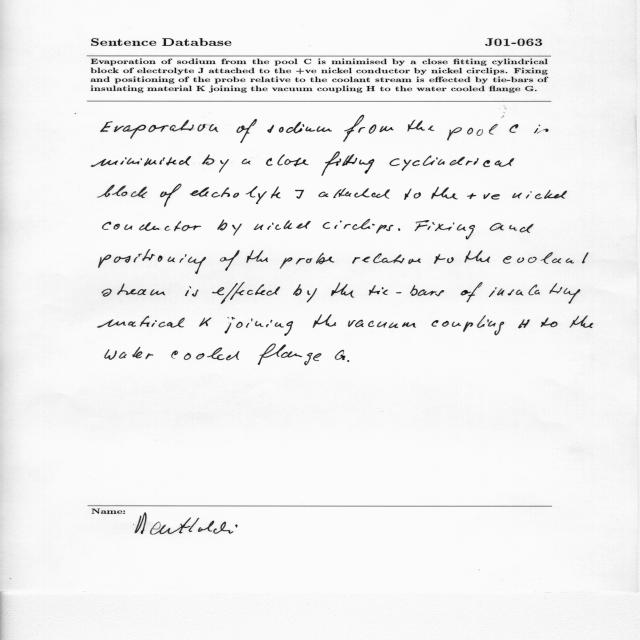word: (98, 249, 206, 274), (101, 120, 218, 139), (390, 155, 515, 171), (489, 283, 580, 304), (331, 282, 444, 298), (190, 186, 281, 204), (212, 282, 280, 304), (432, 315, 505, 335), (447, 116, 504, 141), (343, 115, 394, 142), (258, 344, 322, 365), (225, 317, 293, 336), (322, 152, 375, 176), (415, 220, 475, 240), (91, 156, 191, 167), (97, 316, 185, 328), (323, 219, 393, 234), (503, 252, 589, 264), (102, 221, 201, 231), (280, 252, 334, 269), (171, 348, 240, 361), (102, 284, 165, 297), (352, 253, 421, 264), (318, 188, 390, 198), (267, 122, 332, 133), (98, 185, 148, 198), (105, 347, 154, 360), (254, 220, 311, 230), (266, 154, 308, 167), (348, 320, 416, 328), (202, 154, 229, 173), (160, 184, 182, 207), (512, 190, 567, 199), (237, 119, 257, 143), (293, 284, 317, 303), (490, 223, 534, 233), (461, 282, 483, 302), (217, 219, 242, 236), (220, 250, 240, 271), (431, 187, 458, 200), (465, 250, 491, 263), (408, 120, 435, 132), (570, 315, 594, 328), (313, 315, 336, 328), (246, 250, 268, 263), (467, 193, 500, 200), (404, 188, 421, 200), (434, 254, 454, 264), (541, 318, 558, 328), (185, 286, 198, 297), (534, 125, 549, 134), (199, 318, 211, 327), (518, 320, 530, 329), (335, 350, 345, 360), (510, 124, 519, 133), (295, 190, 304, 199), (242, 159, 251, 165), (398, 228, 400, 231), (347, 360, 349, 362)
